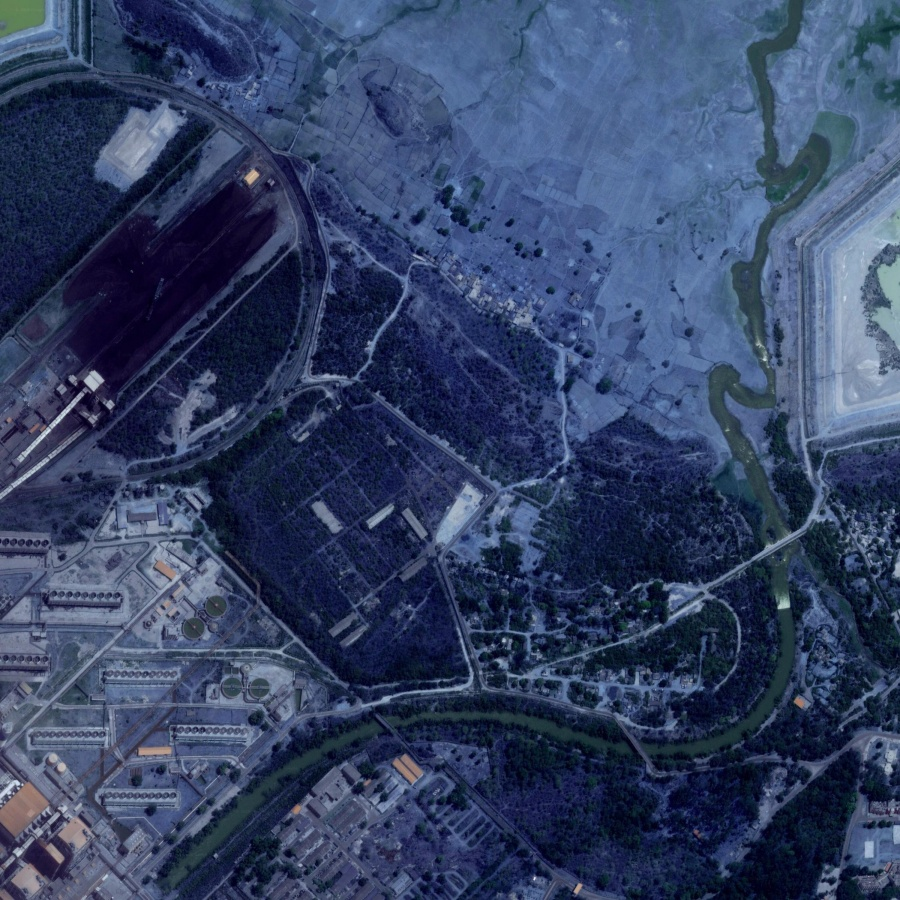PowerPlant: (16, 149, 295, 430)
